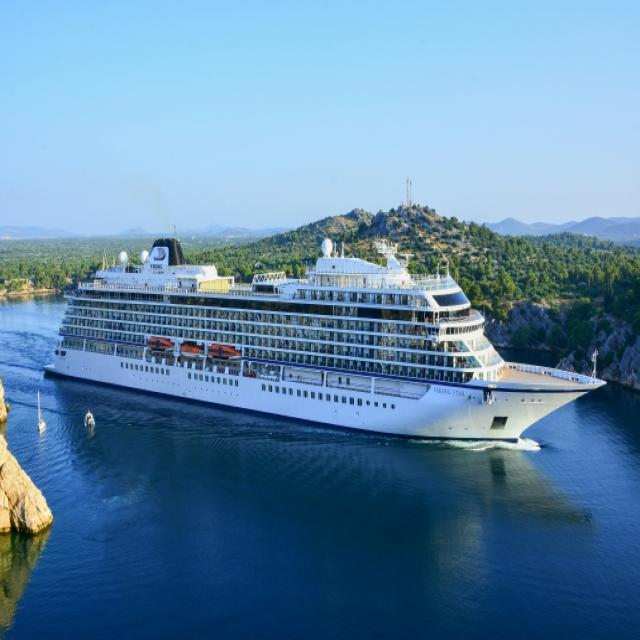cruises: (40, 233, 610, 459)
